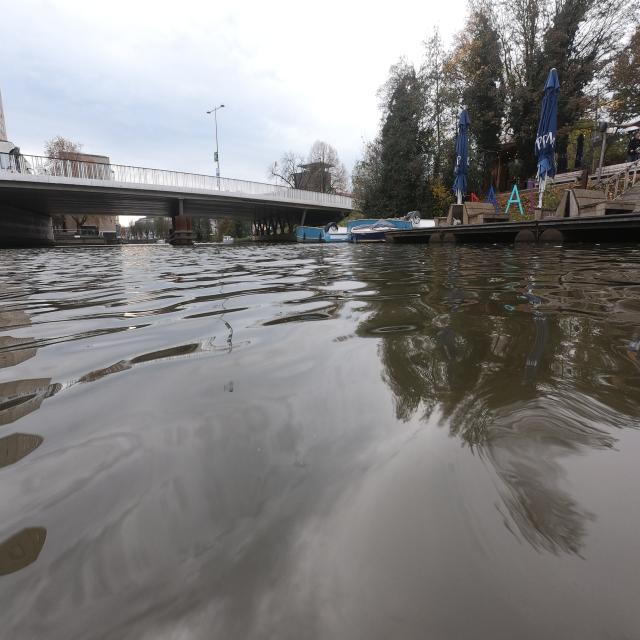boat: (296, 223, 351, 243), (351, 219, 395, 242)
dock: (387, 212, 640, 244)
sky: (4, 4, 464, 176)
tree: (351, 0, 640, 214)
wall: (0, 203, 55, 247)
water: (0, 241, 640, 640)
